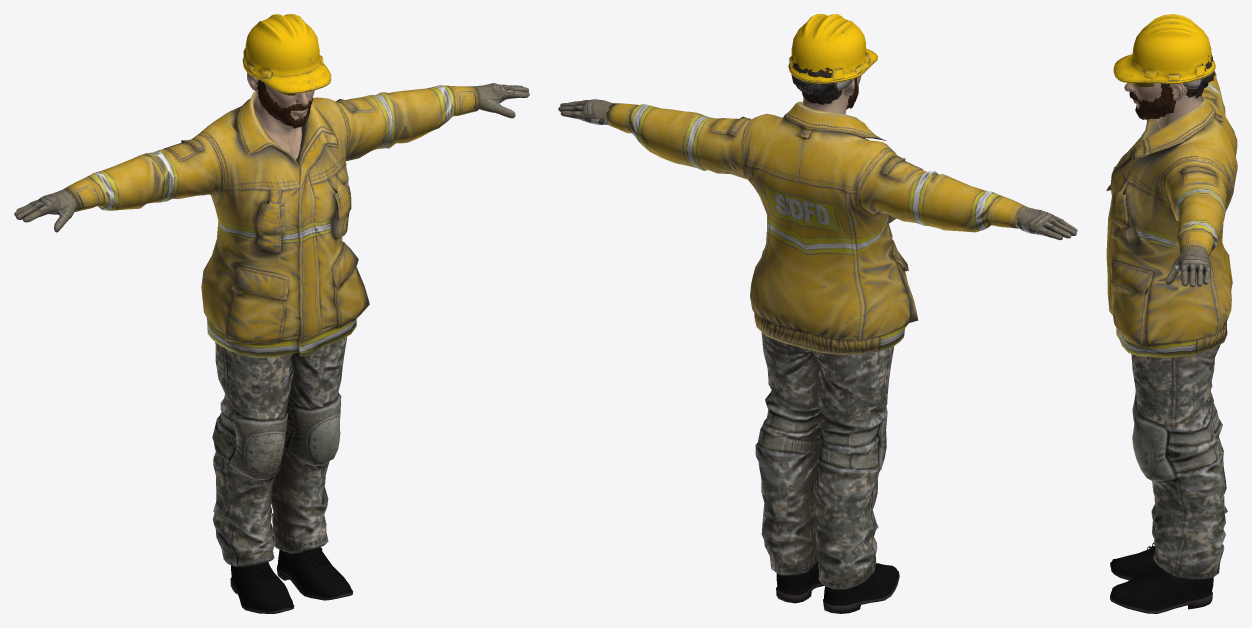
3 views of the same model, side by side, from view 1: azimuth 30°, elevation 25°; view 2: azimuth 150°, elevation 25°; view 3: azimuth 270°, elevation 25° (orthographic).
Visible parts, largest first — view 1: Tops, Bottoms, Hats, Shoes, Gloves, Body, Beards; view 2: Tops, Bottoms, Hats, Shoes, Gloves; view 3: Tops, Bottoms, Hats, Shoes, Body, Gloves, Beards, Hair.
Boxes of the visible parts, x1,y1,x2,y2 form: Tops: (64,85,480,357); Bottoms: (212,336,347,566); Hats: (242,14,331,93); Shoes: (230,547,353,613); Gloves: (14,83,529,232); Body: (247,73,314,159); Beards: (256,79,312,128); Tops: (605,101,1026,354); Bottoms: (755,322,894,589); Hats: (788,14,877,95); Shoes: (776,560,899,613); Gloves: (558,99,1077,240); Tops: (1106,71,1237,357); Bottoms: (1131,344,1227,579); Hats: (1113,14,1215,90); Shoes: (1110,542,1213,613); Body: (1124,83,1201,131); Gloves: (1165,243,1210,287); Beards: (1135,85,1175,120); Hair: (1160,55,1212,98).
Size of the model in its own units: 173 by 185 by 38.55.
10 materials, 10 textured.
